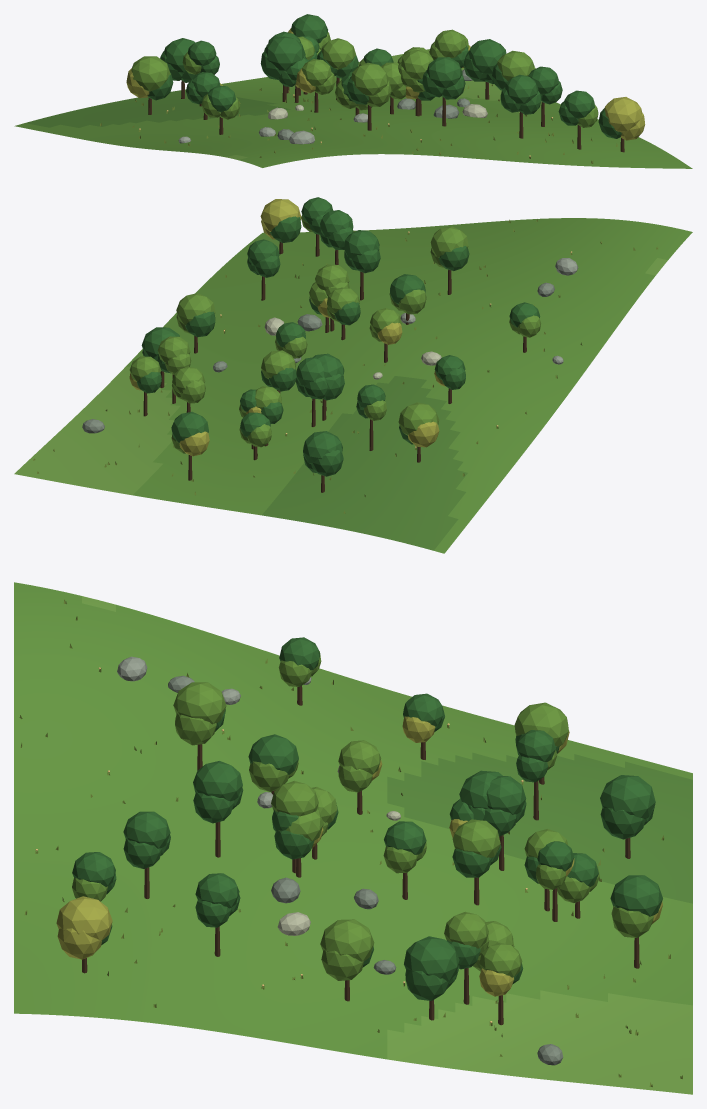
The model's file is Chunk_X-2_Y0_Z2.fbx.
The picture shows the model from 3 angles, top to bottom: view 1: azimuth 30°, elevation 25°; view 2: azimuth 150°, elevation 25°; view 3: azimuth 270°, elevation 25°; orthographic projection. The views are drawn at different scales.
Visible parts, largest first — view 1: Terrain.012, Canopies.012, Rocks.012, Trunks.012, GroundCover.012; view 2: Terrain.012, Canopies.012, Rocks.012, Trunks.012, GroundCover.012; view 3: Terrain.012, Canopies.012, Rocks.012, Trunks.012, GroundCover.012.
Part boxes in pixels (x1,y1,x2,y2): Terrain.012: (14,49,692,168); Canopies.012: (126,14,645,140); Rocks.012: (178,69,487,144); Trunks.012: (148,77,624,152); GroundCover.012: (100,50,617,163); Terrain.012: (14,218,692,553); Canopies.012: (129,197,540,476); Rocks.012: (82,258,578,433); Trunks.012: (143,234,526,492); GroundCover.012: (33,219,658,513); Terrain.012: (14,582,692,1094); Canopies.012: (56,637,662,1000); Rocks.012: (117,656,563,1065); Trunks.012: (82,686,639,1025); GroundCover.012: (19,599,682,1086).
Size of the model in its own units: 100 by 39.11 by 100.
